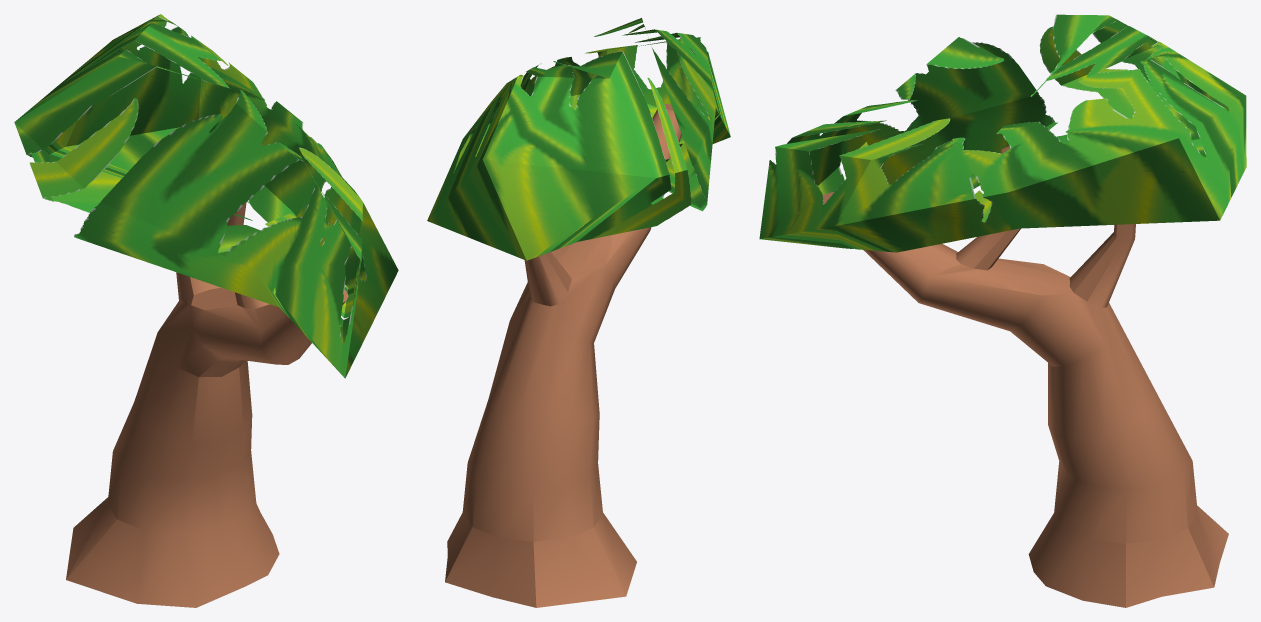
Rendered from pepsi.fbx.
3 renders of one model, left to right at view 1: azimuth 30°, elevation 25°; view 2: azimuth 150°, elevation 25°; view 3: azimuth 270°, elevation 25°, orthographic. The views are drawn at different scales.
Parts seen in each view (by area): view 1: Mesh (2), Mesh; view 2: Mesh, Mesh (2); view 3: Mesh (2), Mesh.
Boxes of the visible parts, x1,y1,x2,y2 form: Mesh (2): [14, 14, 398, 378]; Mesh: [66, 202, 348, 607]; Mesh: [445, 104, 681, 607]; Mesh (2): [427, 18, 730, 260]; Mesh (2): [759, 14, 1246, 252]; Mesh: [823, 146, 1228, 607].
Bounding box in the file's own units: 1709 × 3626 × 2983.
